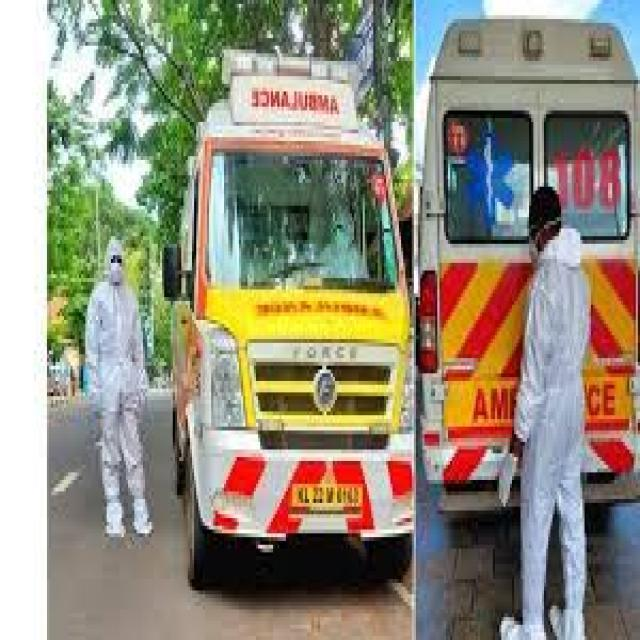ambulance: (159, 43, 413, 601), (417, 12, 640, 520)
